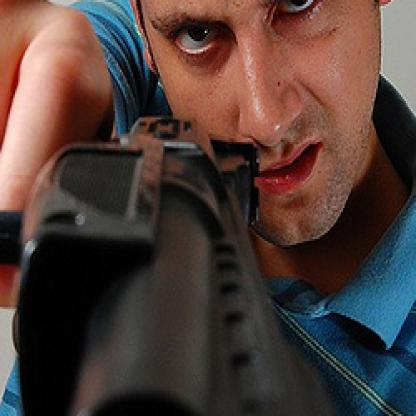gun: (0, 97, 386, 414)
